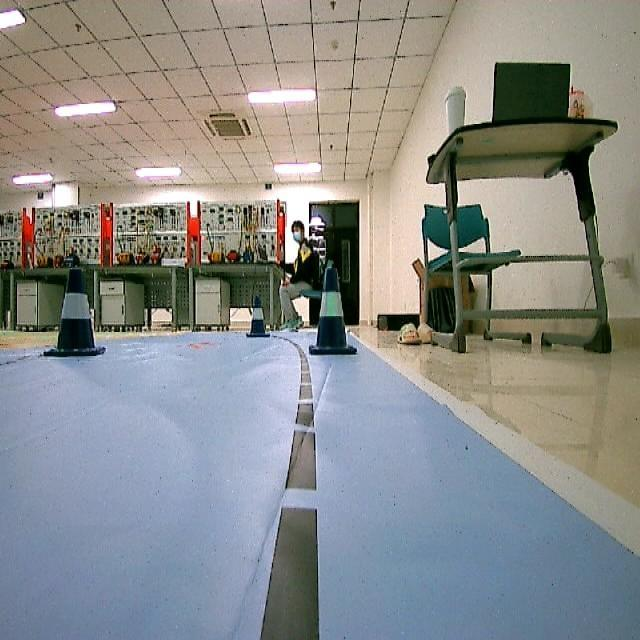obstacle: (42, 262, 108, 359), (243, 292, 268, 340)
